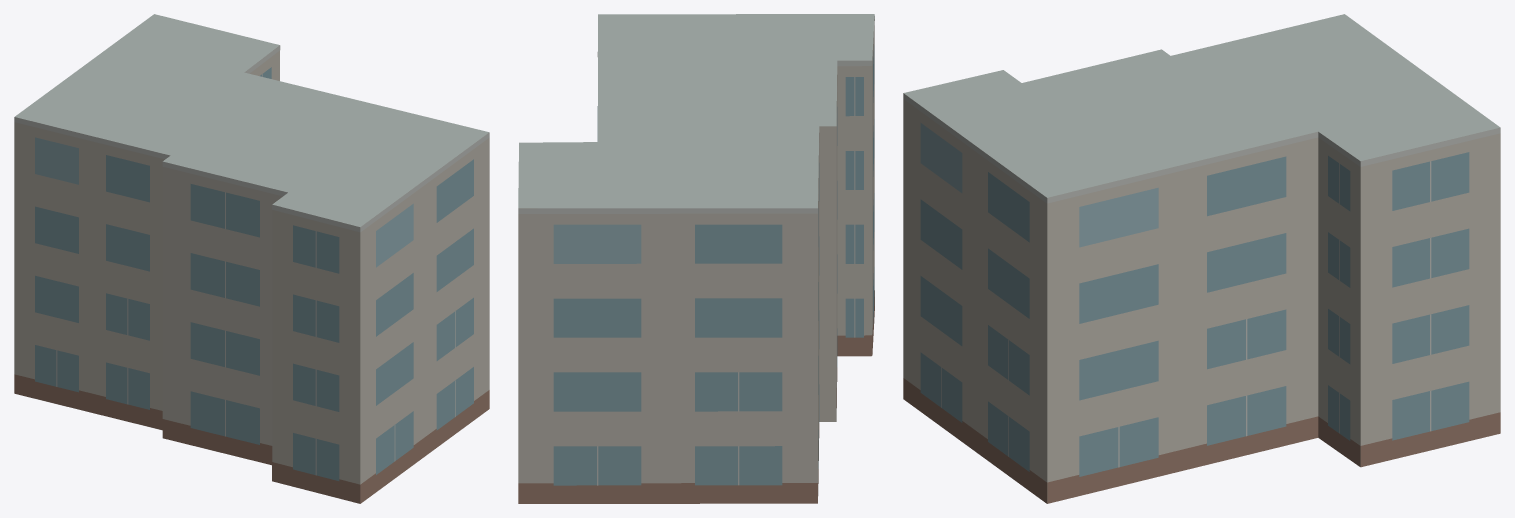
Rendered from survey-upis-32659077.glb.
3 views of the same model, side by side, from view 1: azimuth 30°, elevation 25°; view 2: azimuth 150°, elevation 25°; view 3: azimuth 270°, elevation 25° (orthographic). The views are drawn at different scales.
Parts seen in each view (by area): view 1: survey-upis-32659077.tmp; view 2: survey-upis-32659077.tmp; view 3: survey-upis-32659077.tmp.
Boxes of the visible parts, box(x1,y1,x2,y2) form: survey-upis-32659077.tmp: box(14, 14, 489, 503); survey-upis-32659077.tmp: box(518, 14, 874, 503); survey-upis-32659077.tmp: box(903, 14, 1500, 503).
Bounding box in the file's own units: 16.76 × 13 × 23.
